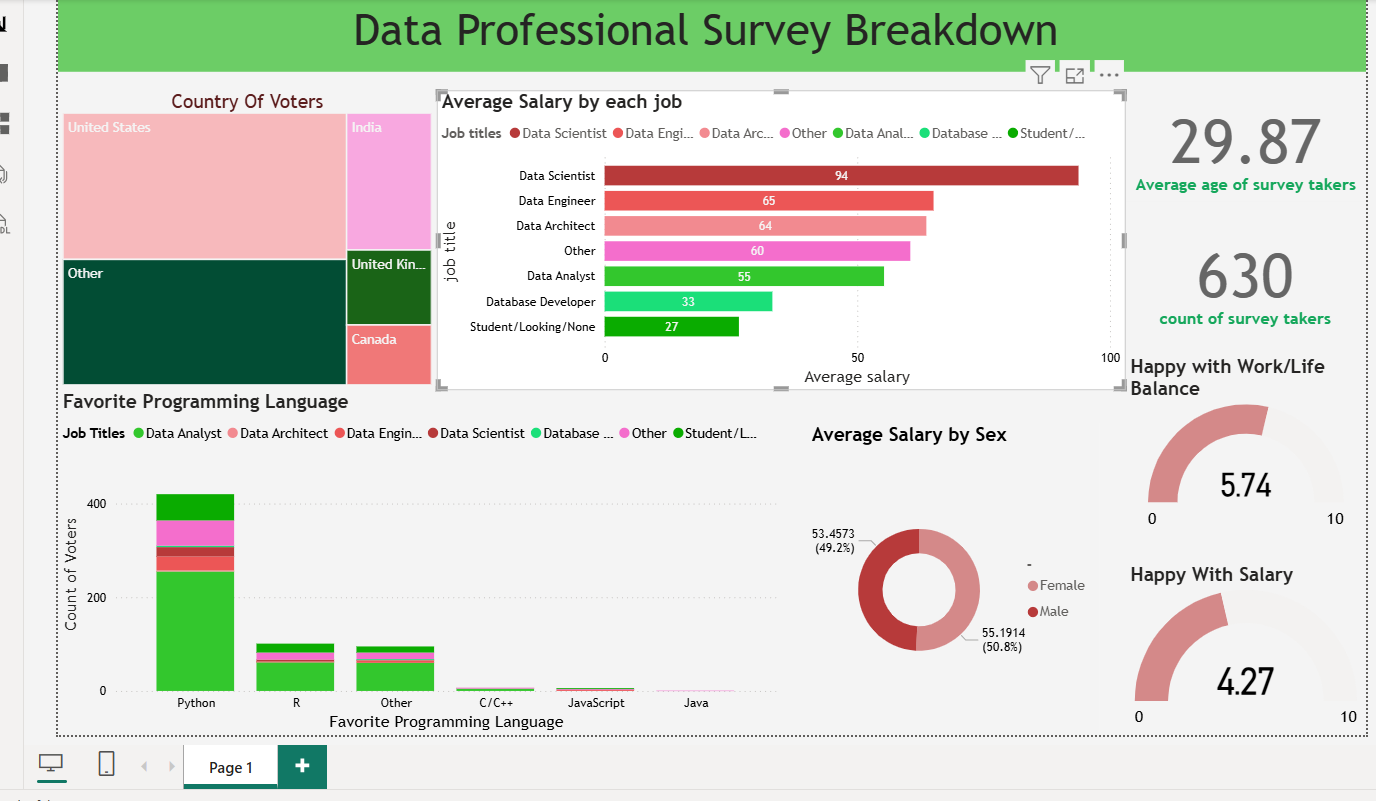

The dashboard page shown, as its layout file describes it:
{"tool":"powerbi","page":{"name":"Page 1","canvas":[1280,720],"ordinal":0},"visuals":[{"type":"textbox","box":[0,0,1280.3,70.9],"z":0},{"type":"card","fields":{"Values":["CountNonNull(Data Professional Survey.Unique ID)"]},"box":[1048,222.6,227.4,103.9],"z":1000},{"type":"card","fields":{"Values":["Avg(Data Professional Survey.Q10 - Current Age)"]},"box":[1044.3,89.3,236,108.8],"z":2000},{"type":"barChart","title":"Average Salary by each job","fields":{"Y":["Avg(Data Professional Survey.Average Salary )"],"Category":["Data Professional Survey.Q1 - Which Title Best Fits your Current Role?.1"],"Series":["Data Professional Survey.Q1 - Which Title Best Fits your Current Role?.1"]},"box":[370.5,89.3,673.8,293.5],"z":3000},{"type":"columnChart","title":"Favorite Programming Language","fields":{"Category":["Data Professional Survey.Q5 - Favorite Programming Language.1"],"Y":["CountNonNull(Data Professional Survey.Unique ID)"],"Series":["Data Professional Survey.Q1 - Which Title Best Fits your Current Role?.1"]},"box":[0,382.7,708,337.5],"z":4000},{"type":"treemap","title":"Country Of Voters","fields":{"Values":["CountNonNull(Data Professional Survey.Q11 - Which Country do you live in?.1)"],"Details":["Data Professional Survey.Q11 - Which Country do you live in?.1"]},"box":[0,89.3,370.5,293.5],"z":5000},{"type":"gauge","title":"Happy with Work/Life Balance","fields":{"Y":["Avg(Data Professional Survey.Q6 - How Happy are you in your Current Position with the following? (Work/Life Balance))"],"MinValue":["Min(Data Professional Survey.Q6 - How Happy are you in your Current Position with the following? (Work/Life Balance))"],"MaxValue":["Max(Data Professional Survey.Q6 - How Happy are you in your Current Position with the following? (Work/Life Balance))"]},"box":[1044.3,348.5,236,177.3],"z":6000},{"type":"gauge","title":"Happy With Salary","fields":{"Y":["Avg(Data Professional Survey.Q6 - How Happy are you in your Current Position with the following? (Salary))"],"MinValue":["Min(Data Professional Survey.Q6 - How Happy are you in your Current Position with the following? (Salary))"],"MaxValue":["Max(Data Professional Survey.Q6 - How Happy are you in your Current Position with the following? (Salary))"]},"box":[1044.3,551.5,236,168.8],"z":7000},{"type":"donutChart","title":"Average Salary by Sex","fields":{"Category":["Data Professional Survey.Q9 - Male/Female?"],"Y":["Avg(Data Professional Survey.Average Salary )"]},"box":[732.5,414.5,286.1,305.7],"z":8000}]}

Visuals, with their boxes on the page's 1280x720 design canvas (x1, y1, x2, y2). These are canvas units, not pixel positions in the 1376x801 screenshot, which may show the page scaled, cropped or inside an application window:
textbox: rect(0, 0, 1280, 71)
card - CountNonNull(Data Professional Survey.Unique ID): rect(1048, 223, 1275, 326)
card - Avg(Data Professional Survey.Q10 - Current Age): rect(1044, 89, 1280, 198)
"Average Salary by each job" barChart: rect(370, 89, 1044, 383)
"Favorite Programming Language" columnChart: rect(0, 383, 708, 720)
"Country Of Voters" treemap: rect(0, 89, 370, 383)
"Happy with Work/Life Balance" gauge: rect(1044, 348, 1280, 526)
"Happy With Salary" gauge: rect(1044, 552, 1280, 720)
"Average Salary by Sex" donutChart: rect(732, 414, 1019, 720)
